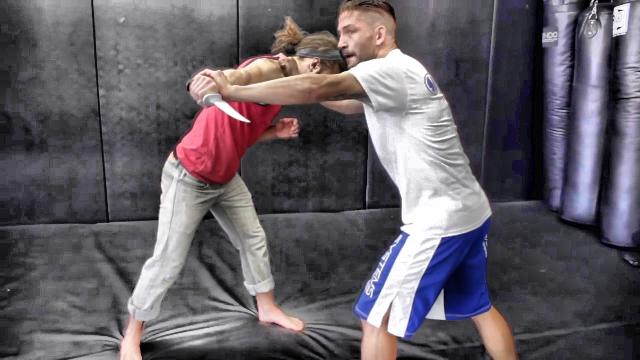knife: (181, 76, 255, 127)
